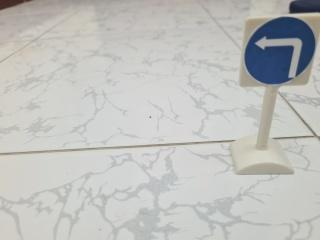left: (242, 15, 320, 88)
